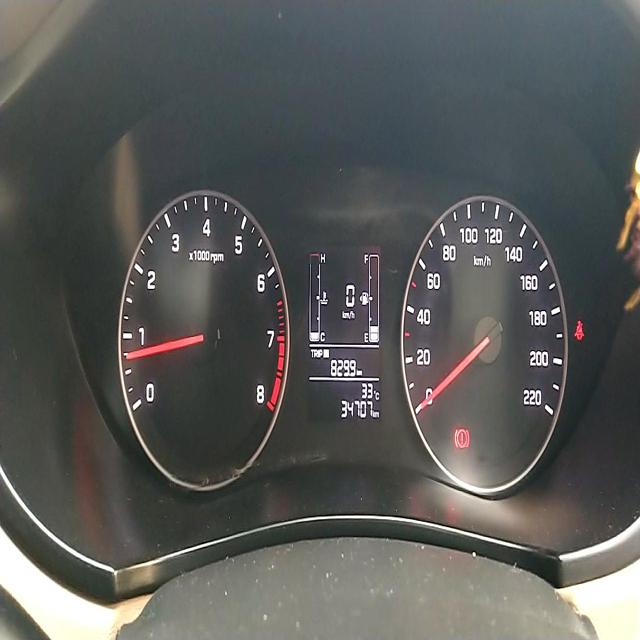odometer: (336, 397, 374, 421)
